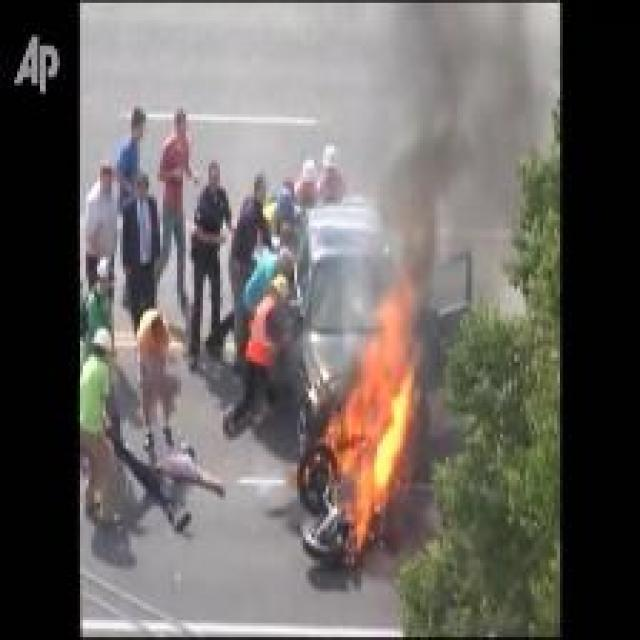Fire: (324, 253, 418, 547)
